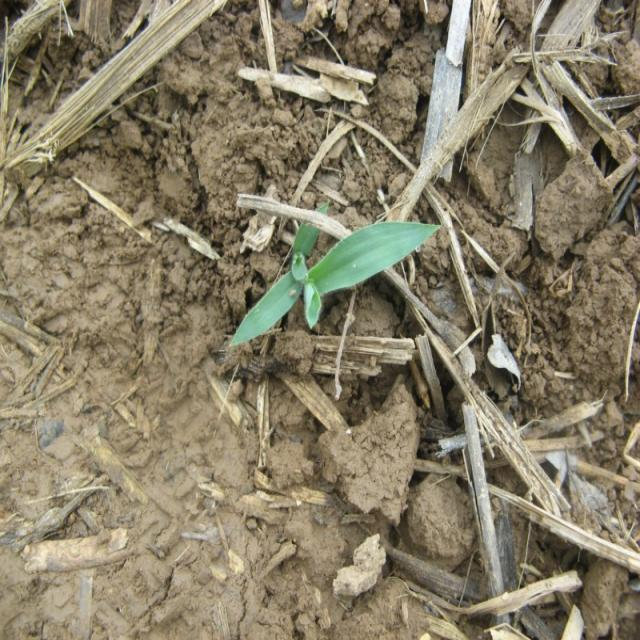bg: (227, 216, 441, 348)
